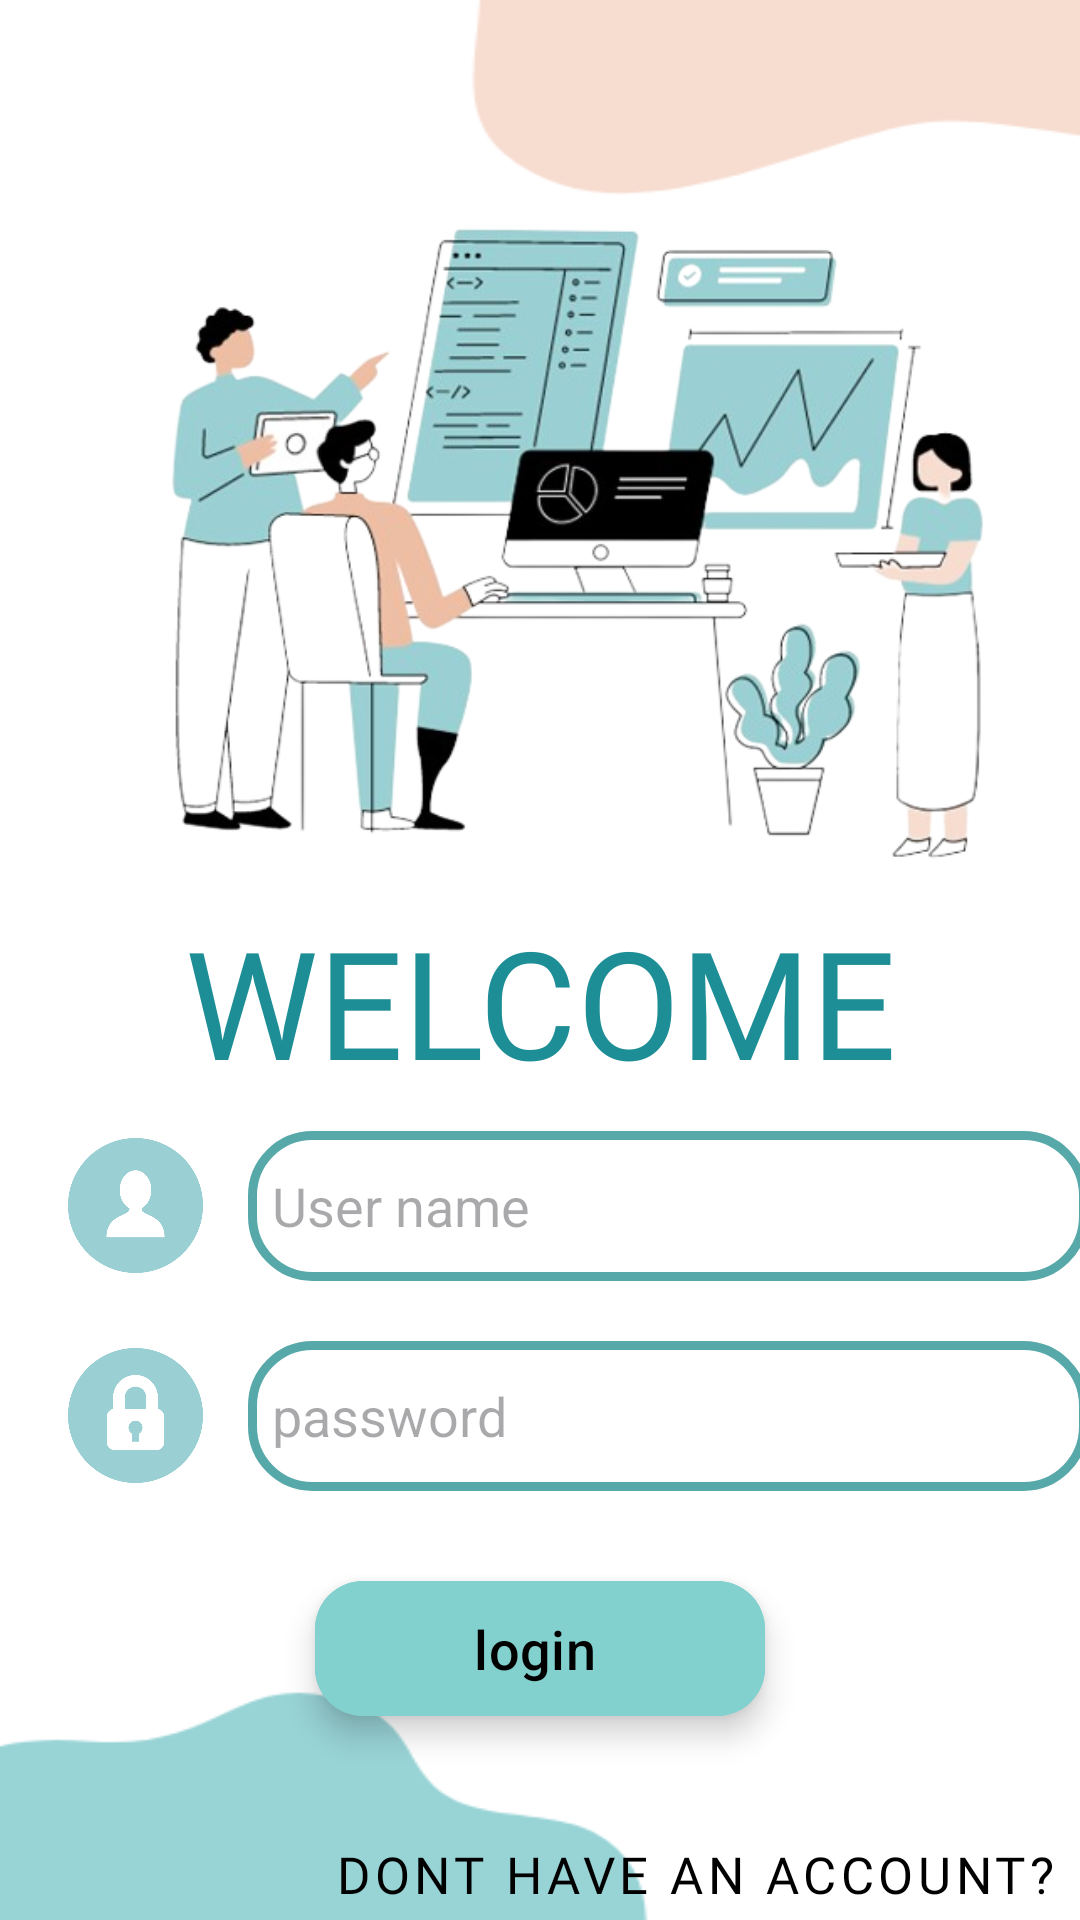

Locate icon controls on the screen. Image size 1080*1920, boxes as BBox(x1, y1, x2, y2).
is user: BBox(68, 1138, 203, 1273)
padlock: BBox(68, 1348, 203, 1483)
